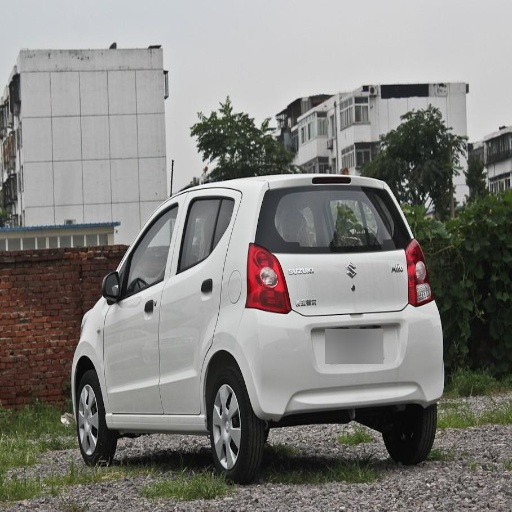back_bumper: (243, 303, 438, 420)
back_glass: (260, 187, 406, 251)
back_left_door: (159, 194, 230, 413)
tailgate: (341, 246, 407, 327)
trunk: (281, 251, 411, 373)
